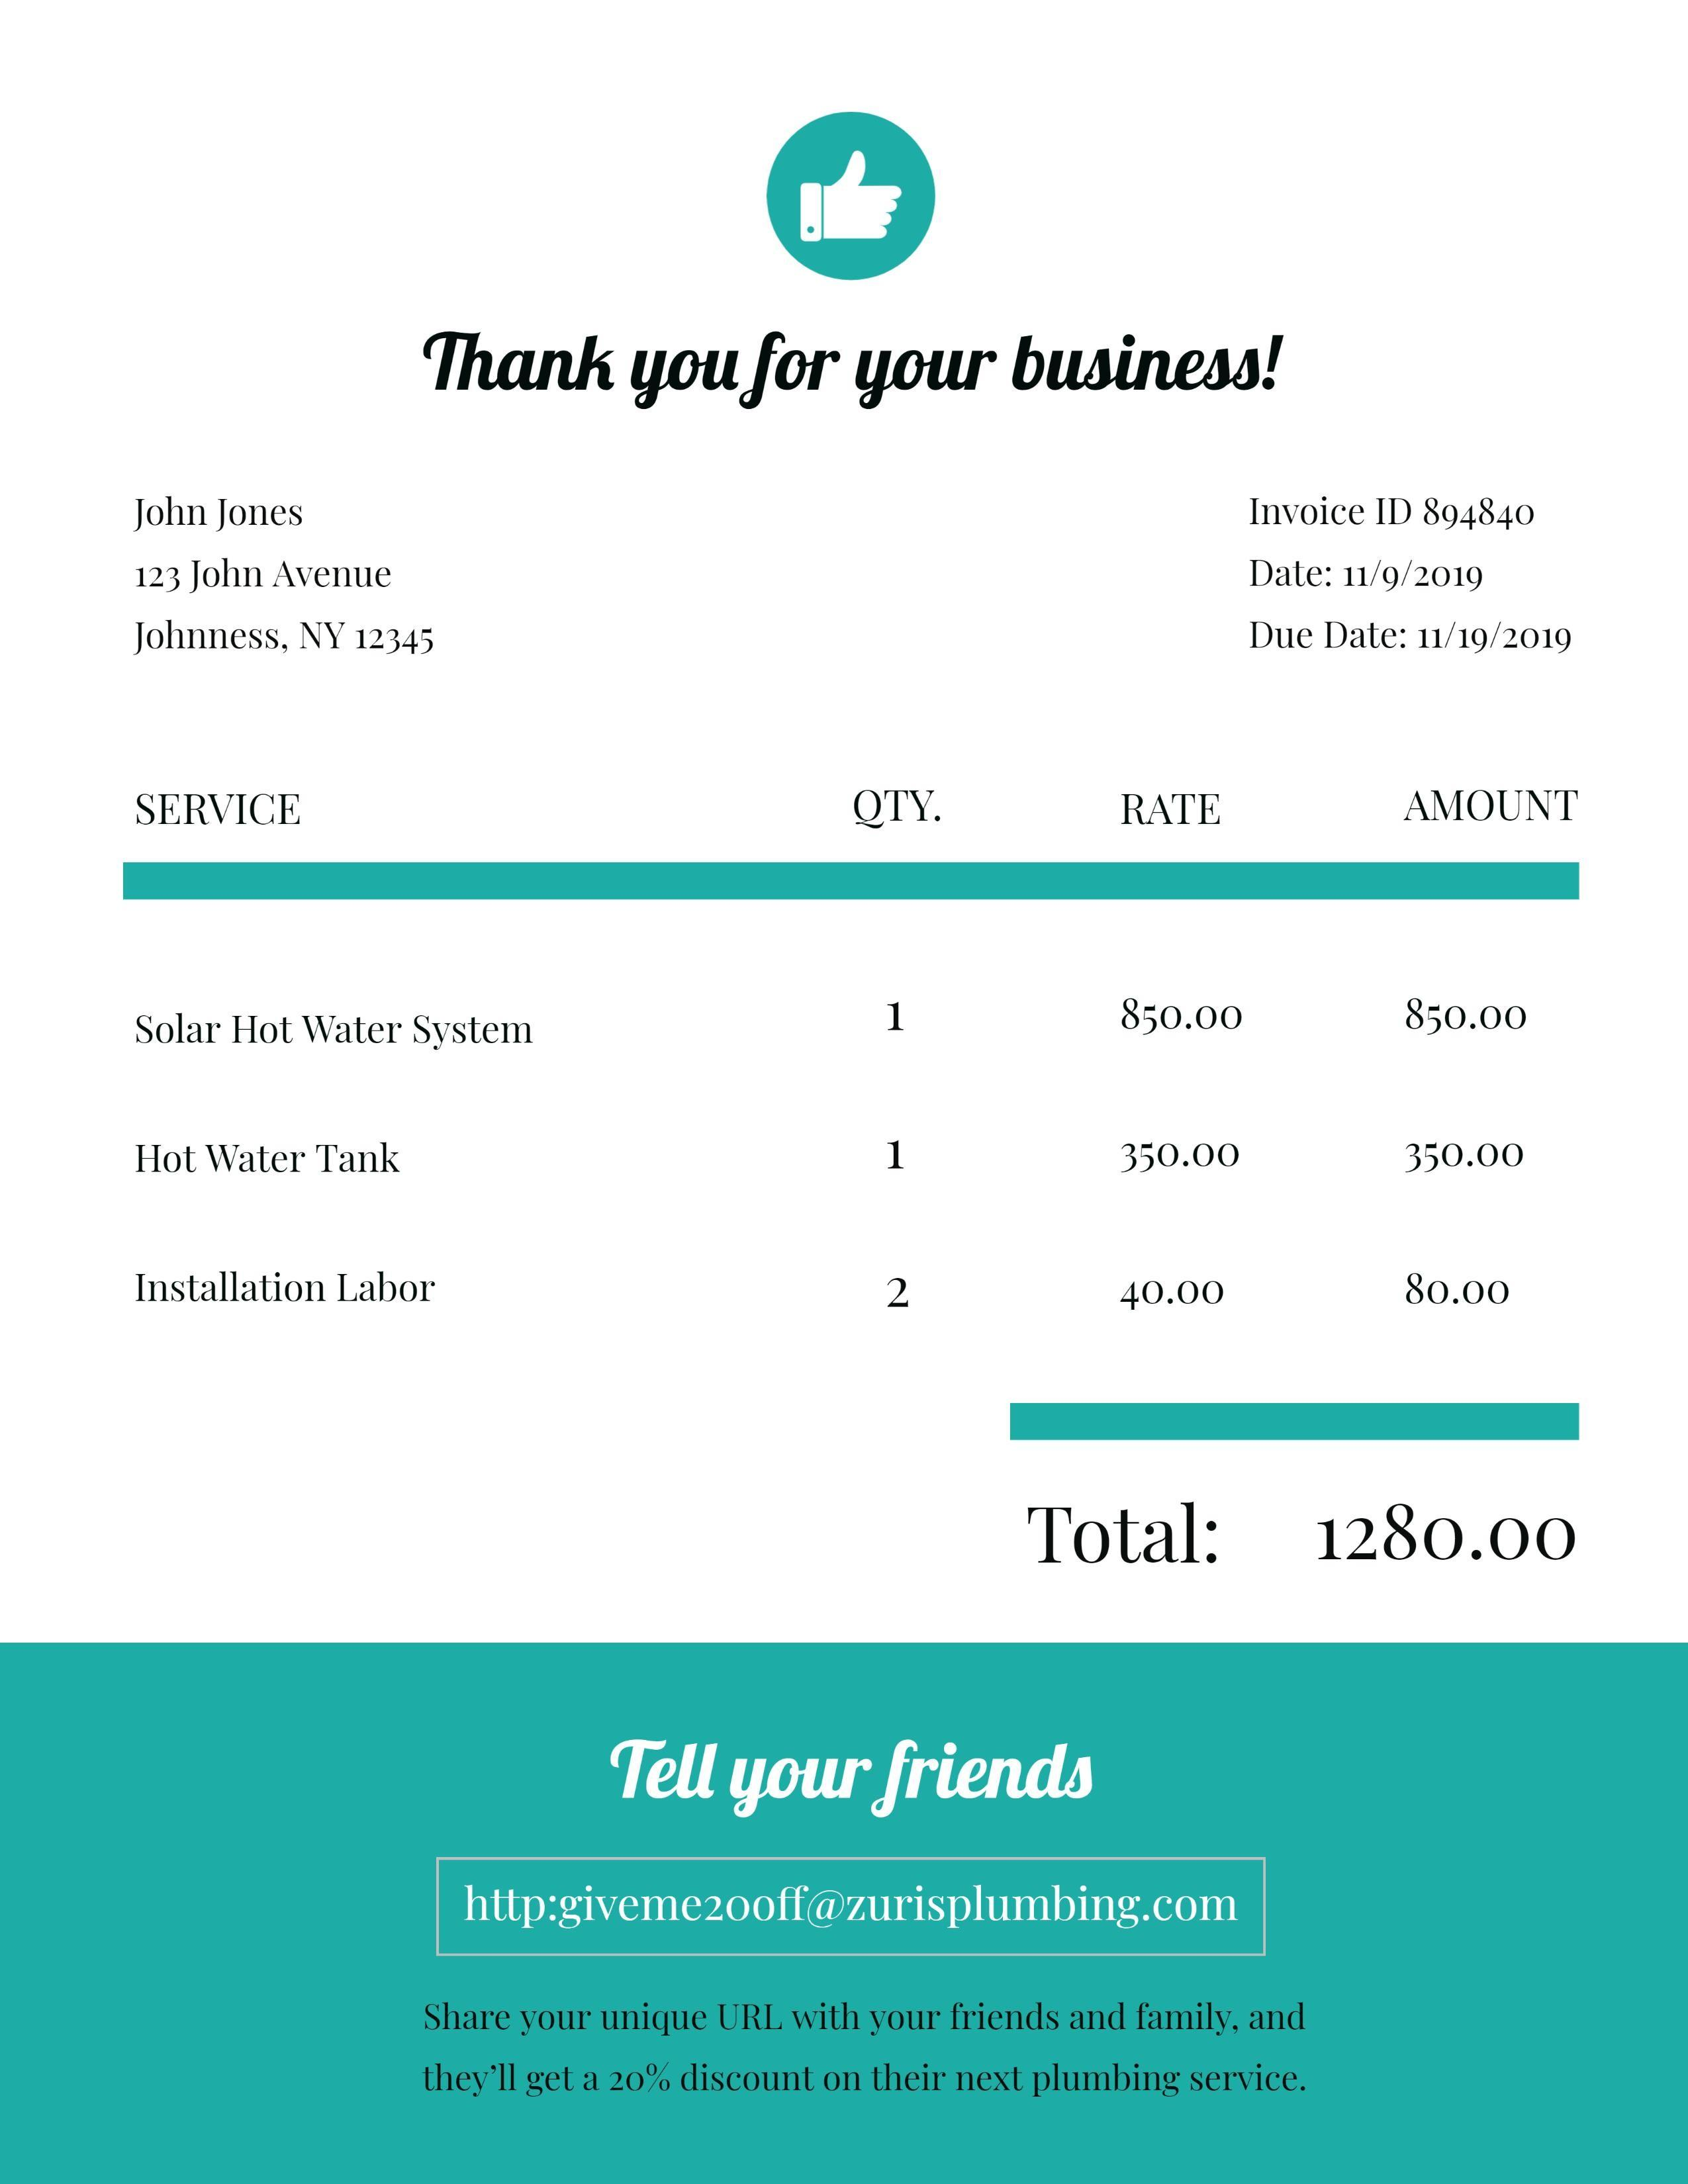ROI: (115, 782, 1587, 1331), (1243, 486, 1592, 668), (121, 489, 465, 661), (1012, 1484, 1583, 1581)
